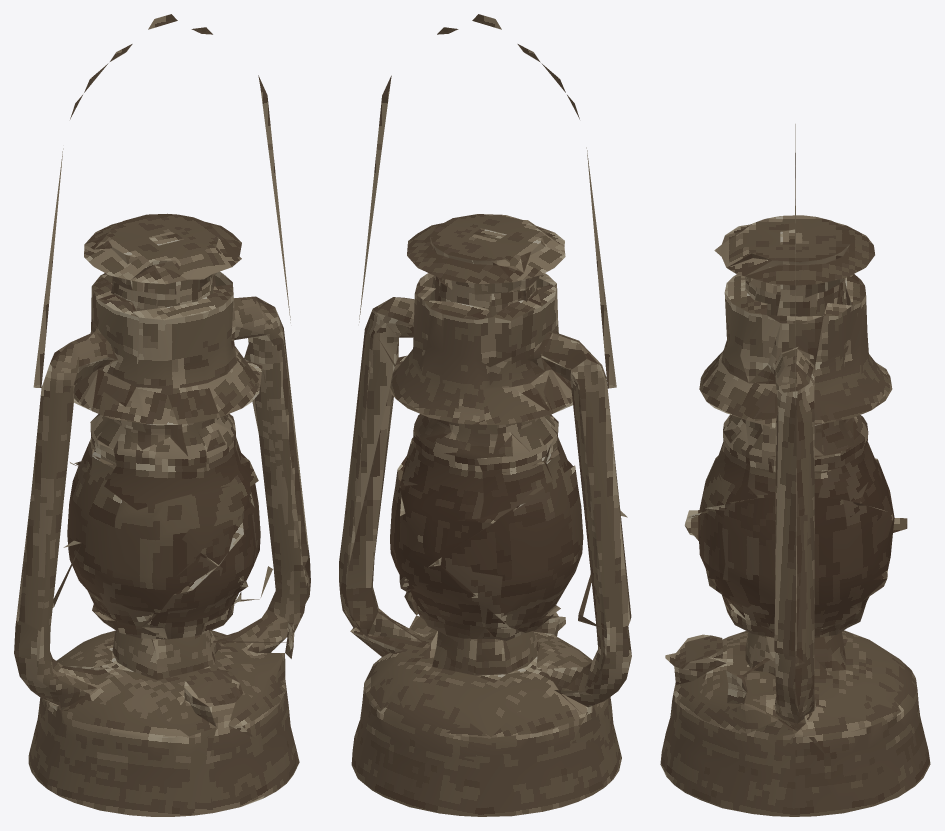
File: Lantern_01.glb
The picture shows the model from 3 angles, left to right: view 1: azimuth 30°, elevation 25°; view 2: azimuth 150°, elevation 25°; view 3: azimuth 270°, elevation 25°; orthographic projection.
Parts seen in each view (by area): view 1: mesh; view 2: mesh; view 3: mesh.
Boxes of the visible parts, bbox=[...] form: mesh: bbox=[14, 14, 310, 816]; mesh: bbox=[339, 14, 631, 816]; mesh: bbox=[660, 124, 930, 816].
Size of the model in its own units: 8.54 by 20.6 by 6.79.
1 material, 1 textured.
